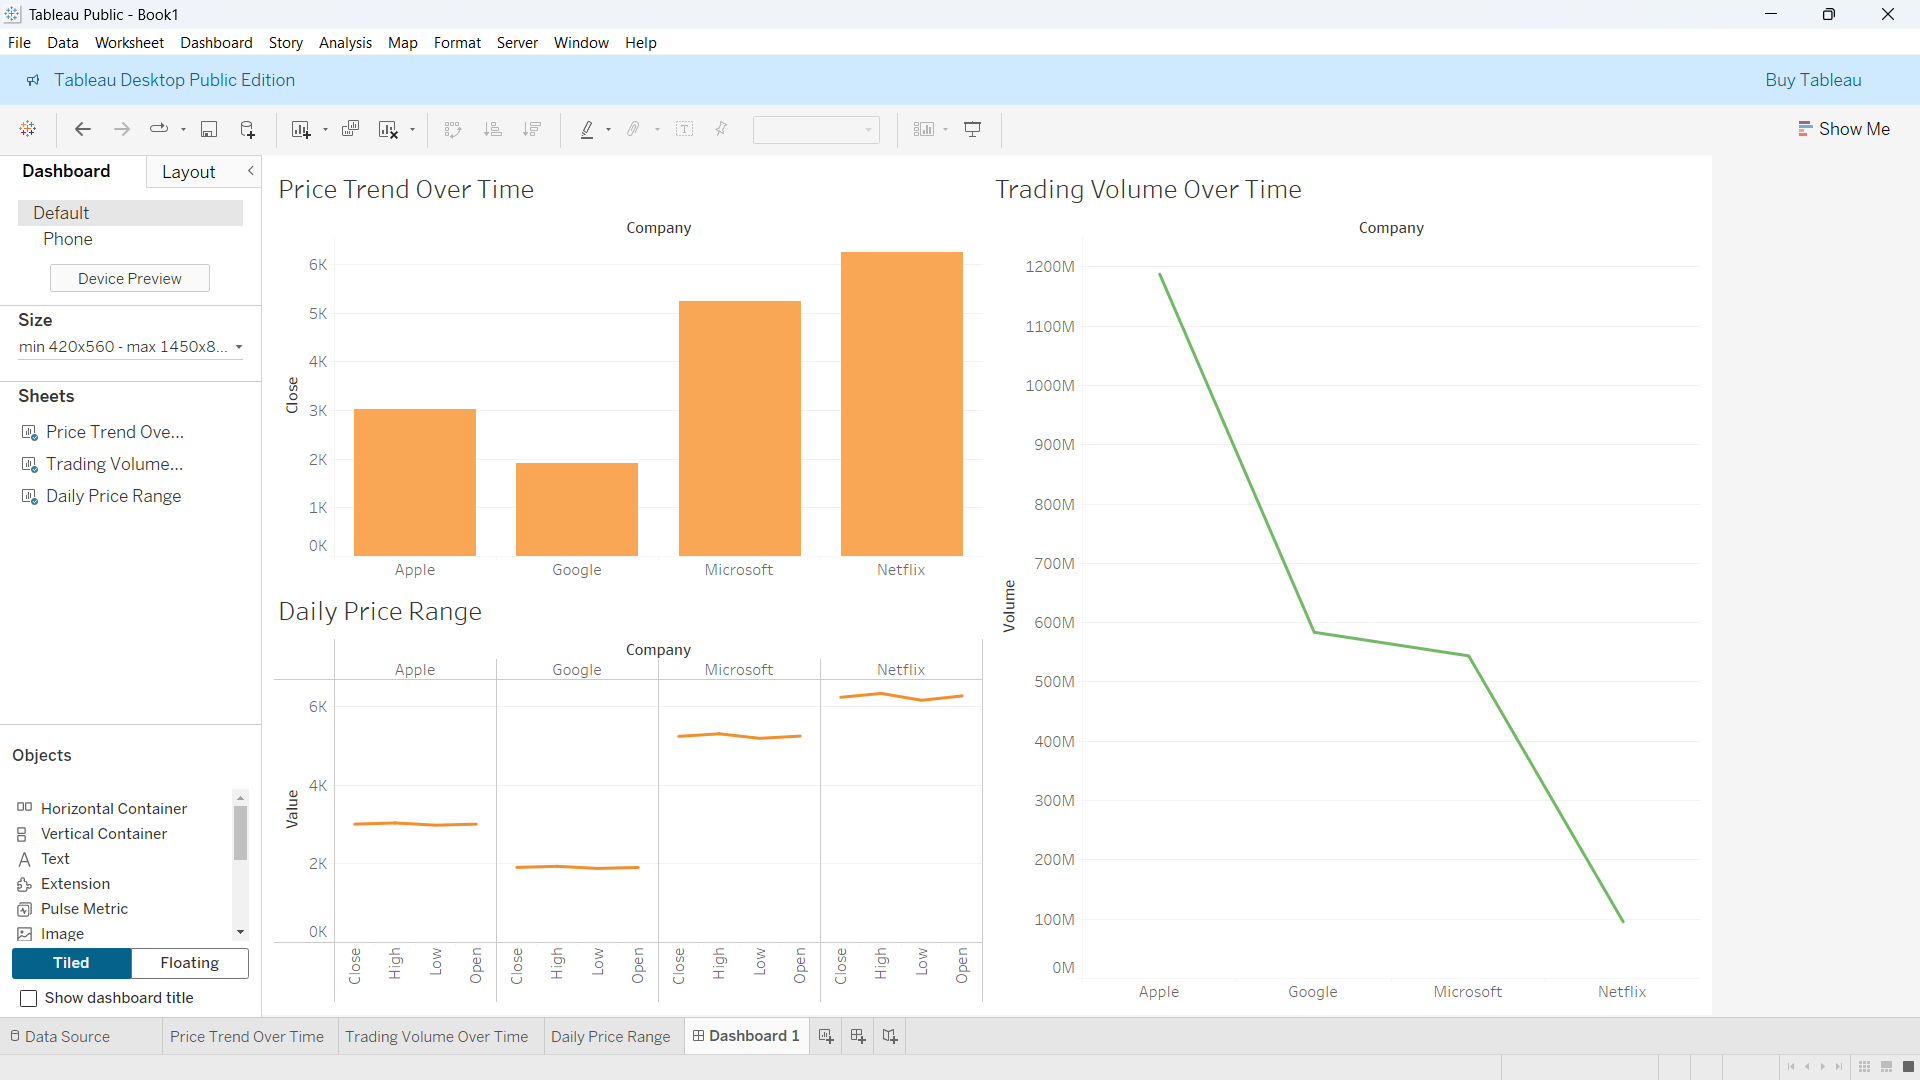

What the dashboard file says about the page in this screenshot:
{"tool":"tableau","page":{"name":"Dashboard 1","canvas":[1000,1000],"units":"permille","ordinal":0},"visuals":[{"type":"worksheet","title":"Price Trend Over Time","mark":"Automatic","rows":["Close"],"cols":["Company"],"box":[5.5,9.3,494.5,490.7]},{"type":"worksheet","title":"Trading Volume Over Time","mark":"Line","rows":["Volume"],"cols":["Company"],"box":[500,9.3,494.5,981.4]},{"type":"worksheet","title":"Daily Price Range","mark":"Line","cols":["Company"],"box":[5.5,500,494.5,490.7]}]}

Visuals, with their boxes on the dashboard's canvas, which has no fixed pixel size, in thousandths of its width and height (x1, y1, x2, y2). These are canvas units, not pixel positions in the 1920x1080 screenshot, which may show the page scaled, cropped or inside an application window:
"Price Trend Over Time" worksheet: box=[6, 9, 500, 500]
"Trading Volume Over Time" worksheet (Line marks): box=[500, 9, 994, 991]
"Daily Price Range" worksheet (Line marks): box=[6, 500, 500, 991]
